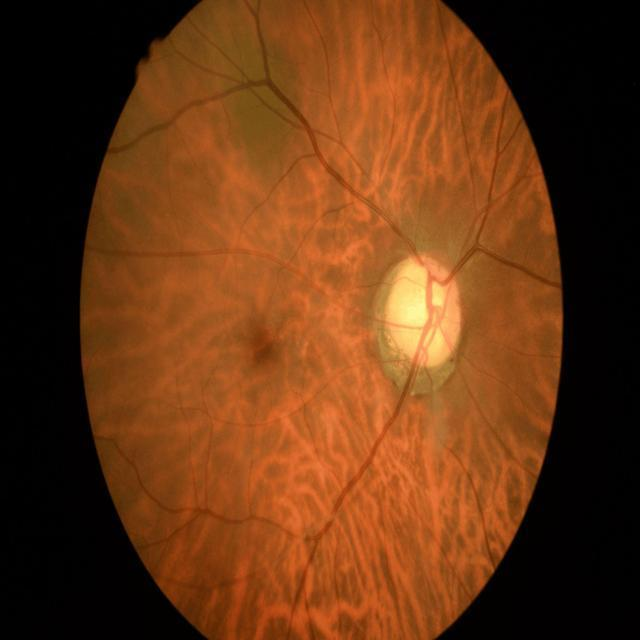cup: (405, 265, 444, 360)
disk: (385, 253, 463, 369)
